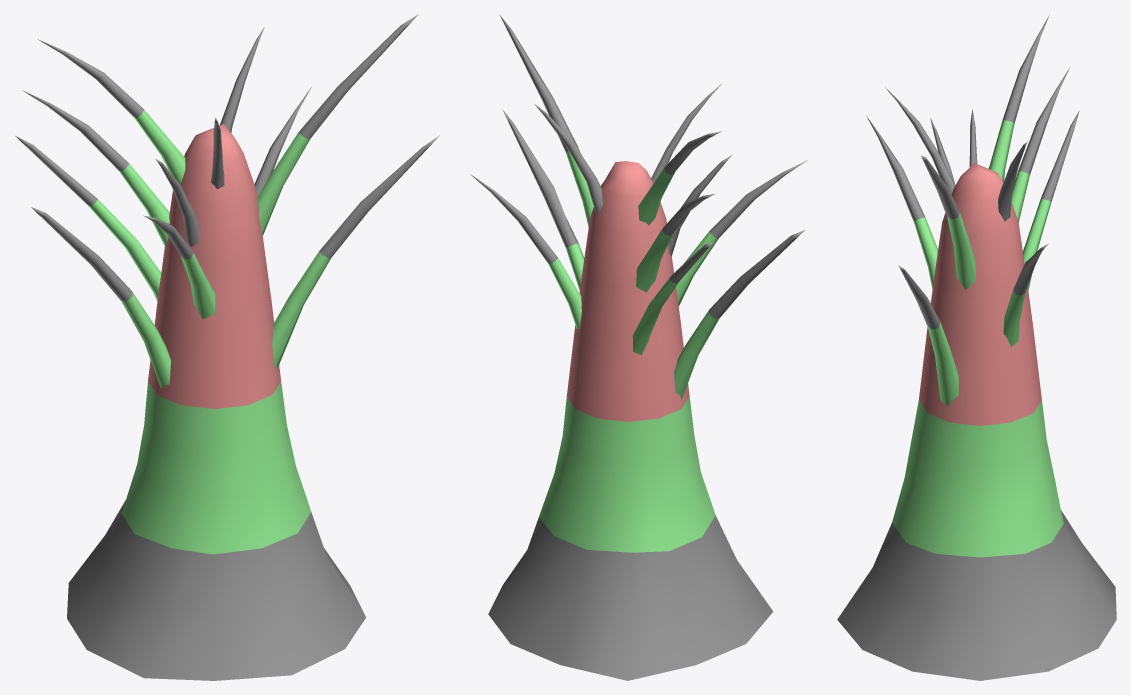
File: wood_01.gltf
3 renders of one model, left to right at view 1: azimuth 30°, elevation 25°; view 2: azimuth 150°, elevation 25°; view 3: azimuth 270°, elevation 25°, orthographic. The views are drawn at different scales.
Visible parts, largest first — view 1: wood_01; view 2: wood_01; view 3: wood_01.
Part boxes in pixels (x1,y1,x2,y2): wood_01: (15, 14, 439, 680); wood_01: (470, 15, 807, 680); wood_01: (837, 15, 1116, 680).
Size of the model in its own units: 28.43 by 43.1 by 20.13.
